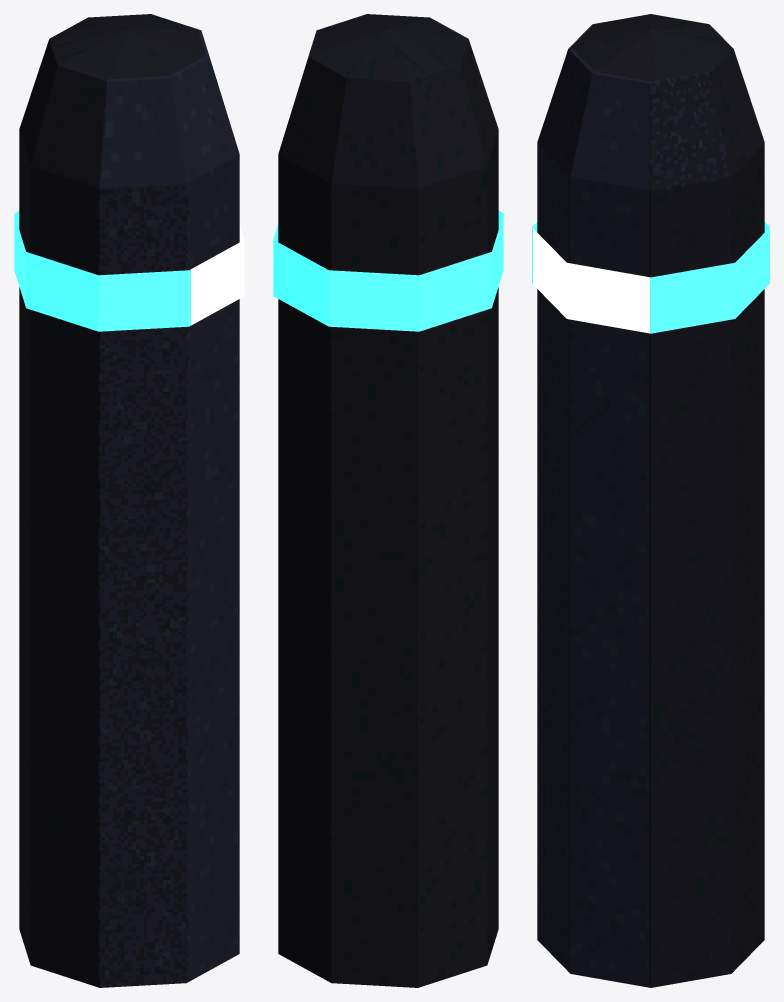
The model's file is bollard.glb.
The picture shows the model from 3 angles, left to right: view 1: azimuth 30°, elevation 25°; view 2: azimuth 150°, elevation 25°; view 3: azimuth 270°, elevation 25°; orthographic projection.
Parts seen in each view (by area): view 1: prop; view 2: prop; view 3: prop.
Part boxes in pixels (<box>): prop: <box>14,14,244,987</box>; prop: <box>273,14,503,987</box>; prop: <box>532,14,769,987</box>.
Size of the model in its own units: 0.23 by 0.97 by 0.23.
1 material, 1 textured.
